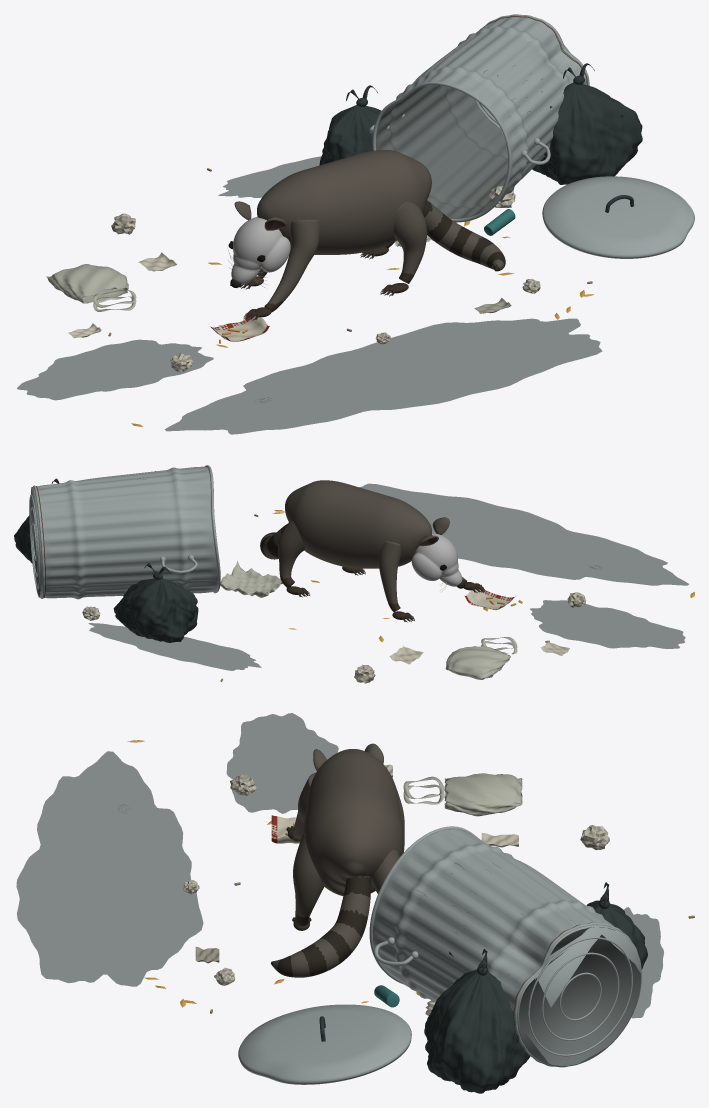
3 views of the same model, one above another, from view 1: azimuth 30°, elevation 25°; view 2: azimuth 150°, elevation 25°; view 3: azimuth 270°, elevation 25° (orthographic). The views are drawn at different scales.
Parts seen in each view (by area): view 1: CAN / overturned fluted shell • dented base corner.001, PUDDLE / foreground reflection.001, RAC / body • continuous stocky silhouette.001, CAN / loose domed lid • rolled rim.001, BAG / soot-black refuse sack / crinkled plastic volume.001, PUDDLE / lamplight pool.001, RAC / head • mask and ivory cheek zones.001, RAC / tail • five charcoal rings.001, BAG / dark sack behind spill / crinkled plastic volume.001, BAG / collapsed open pearl grocery carrier.001, RAC / foreleg.L • reaching.001, RAC / hindleg.L • supporting.001 (+3 smaller); view 2: CAN / overturned fluted shell • dented base corner.001, PUDDLE / foreground reflection.001, RAC / body • continuous stocky silhouette.001, PUDDLE / lamplight pool.001, BAG / dark sack behind spill / crinkled plastic volume.001, PUDDLE / thin water at curb.001, RAC / head • mask and ivory cheek zones.001, BAG / collapsed open pearl grocery carrier.001, BAG / discarded translucent film.001, RAC / foreleg.R • planted.001, RAC / hindleg.R • supporting.001, HERO DETAIL / creased takeaway wrapper under left hand.001 (+5 smaller); view 3: CAN / overturned fluted shell • dented base corner.001, PUDDLE / foreground reflection.001, RAC / body • continuous stocky silhouette.001, CAN / loose domed lid • rolled rim.001, BAG / soot-black refuse sack / crinkled plastic volume.001, PUDDLE / lamplight pool.001, RAC / tail • five charcoal rings.001, BAG / collapsed open pearl grocery carrier.001, PUDDLE / thin water at curb.001, RAC / hindleg.L • supporting.001, BAG / dark sack behind spill / crinkled plastic volume.001, CAN / open rolled lip.001 (+4 smaller).
Part boxes in pixels (bbox=[...]): CAN / overturned fluted shell • dented base corner.001: bbox=[376, 16, 589, 220]; PUDDLE / foreground reflection.001: bbox=[165, 318, 601, 434]; RAC / body • continuous stocky silhouette.001: bbox=[257, 150, 431, 254]; CAN / loose domed lid • rolled rim.001: bbox=[542, 176, 694, 258]; BAG / soot-black refuse sack / crinkled plastic volume.001: bbox=[532, 82, 642, 184]; PUDDLE / lamplight pool.001: bbox=[17, 339, 213, 400]; RAC / head • mask and ivory cheek zones.001: bbox=[231, 217, 290, 284]; RAC / tail • five charcoal rings.001: bbox=[422, 200, 505, 271]; BAG / dark sack behind spill / crinkled plastic volume.001: bbox=[319, 105, 381, 165]; BAG / collapsed open pearl grocery carrier.001: bbox=[46, 264, 128, 303]; RAC / foreleg.L • reaching.001: bbox=[264, 219, 319, 312]; RAC / hindleg.L • supporting.001: bbox=[393, 201, 426, 283]; CAN / overturned fluted shell • dented base corner.001: bbox=[30, 466, 217, 599]; PUDDLE / foreground reflection.001: bbox=[359, 483, 688, 585]; RAC / body • continuous stocky silhouette.001: bbox=[285, 480, 431, 568]; PUDDLE / lamplight pool.001: bbox=[530, 600, 685, 648]; BAG / dark sack behind spill / crinkled plastic volume.001: bbox=[113, 578, 198, 642]; PUDDLE / thin water at curb.001: bbox=[88, 623, 261, 670]; RAC / head • mask and ivory cheek zones.001: bbox=[411, 533, 462, 586]; BAG / collapsed open pearl grocery carrier.001: bbox=[445, 646, 510, 679]; BAG / discarded translucent film.001: bbox=[220, 560, 282, 597]; RAC / foreleg.R • planted.001: bbox=[379, 541, 400, 612]; RAC / hindleg.R • supporting.001: bbox=[278, 520, 304, 587]; HERO DETAIL / creased takeaway wrapper under left hand.001: bbox=[465, 584, 515, 609]; CAN / overturned fluted shell • dented base corner.001: bbox=[372, 829, 641, 1066]; PUDDLE / foreground reflection.001: bbox=[16, 751, 203, 986]; RAC / body • continuous stocky silhouette.001: bbox=[303, 749, 403, 895]; CAN / loose domed lid • rolled rim.001: bbox=[238, 1004, 411, 1084]; BAG / soot-black refuse sack / crinkled plastic volume.001: bbox=[424, 969, 529, 1093]; PUDDLE / lamplight pool.001: bbox=[226, 713, 338, 813]; RAC / tail • five charcoal rings.001: bbox=[271, 876, 370, 977]; BAG / collapsed open pearl grocery carrier.001: bbox=[444, 773, 522, 816]; PUDDLE / thin water at curb.001: bbox=[623, 907, 663, 1018]; RAC / hindleg.L • supporting.001: bbox=[293, 833, 324, 926]; BAG / dark sack behind spill / crinkled plastic volume.001: bbox=[587, 900, 647, 969]; CAN / open rolled lip.001: bbox=[369, 826, 491, 984].
Size of the model in its own units: 2.5 by 0.471 by 1.83.
